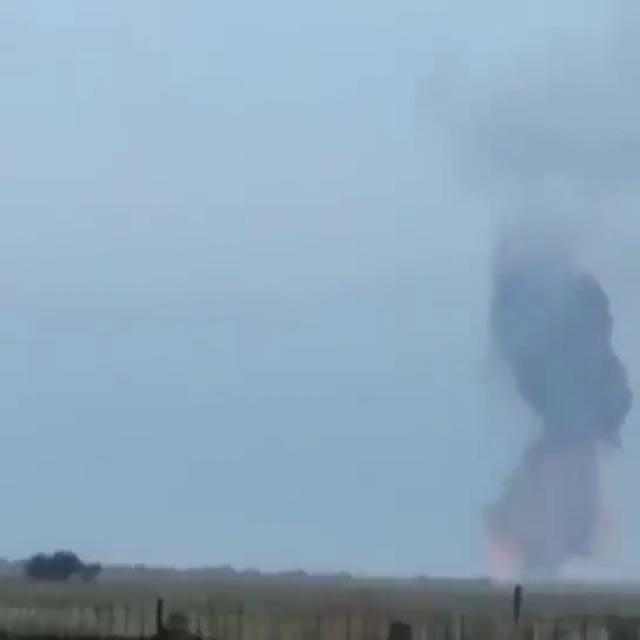Smoke: (484, 264, 632, 576)
